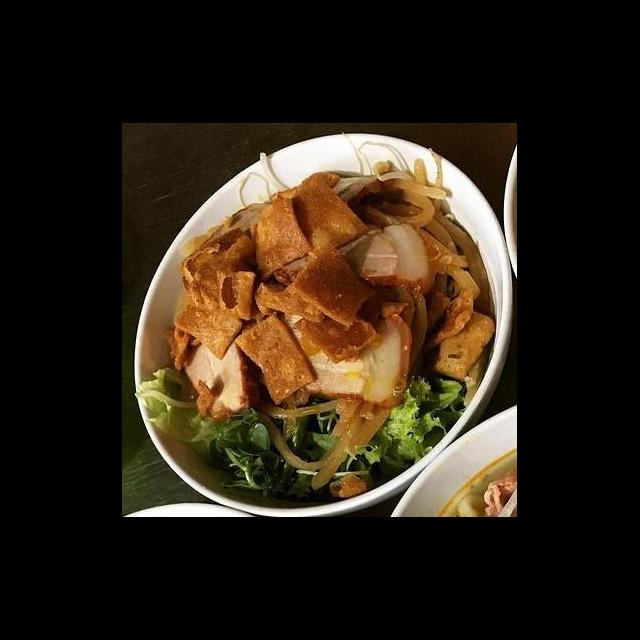banh da: (231, 232, 329, 320), (315, 176, 413, 262), (309, 289, 398, 382), (378, 290, 472, 368), (273, 292, 339, 386), (256, 434, 351, 498), (357, 248, 447, 314), (277, 173, 353, 246), (314, 262, 377, 330)
mi: (324, 359, 486, 494), (147, 256, 250, 396)
mi quang: (128, 153, 518, 517)
thit heo: (226, 268, 341, 416), (343, 270, 422, 442), (217, 179, 316, 257)
